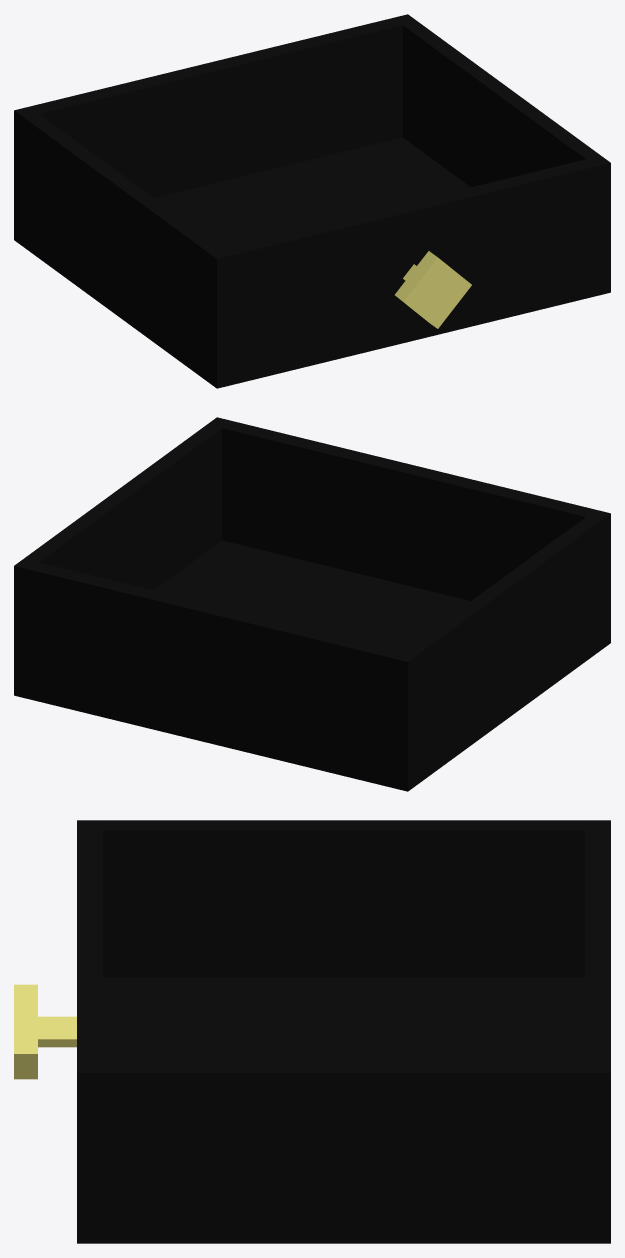
Rendered from Itr_Desk_Drawer_Inside1_05.FBX.
3 renders of one model, top to bottom at view 1: azimuth 30°, elevation 25°; view 2: azimuth 150°, elevation 25°; view 3: azimuth 270°, elevation 25°, orthographic. The views are drawn at different scales.
Visible parts, largest first — view 1: Itr_Desk_Drawer_Inside1_05; view 2: Itr_Desk_Drawer_Inside1_05; view 3: Itr_Desk_Drawer_Inside1_05.
Boxes of the visible parts, x1=… form: Itr_Desk_Drawer_Inside1_05: x1=14, y1=14, x2=610, y2=388; Itr_Desk_Drawer_Inside1_05: x1=14, y1=417, x2=610, y2=791; Itr_Desk_Drawer_Inside1_05: x1=14, y1=820, x2=610, y2=1243.
Size of the model in its own units: 14.4 by 4.53 by 14.37.
